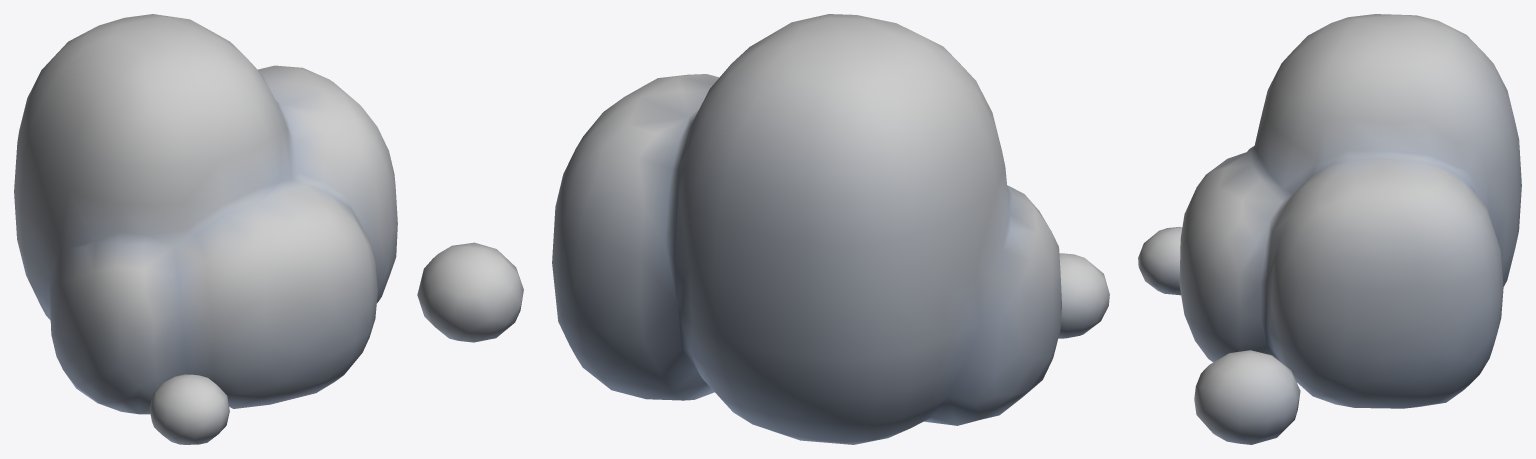
File: Cloudstone_Vein.glb
3 renders of one model, left to right at view 1: azimuth 30°, elevation 25°; view 2: azimuth 150°, elevation 25°; view 3: azimuth 270°, elevation 25°, orthographic. The views are drawn at different scales.
Parts seen in each view (by area): view 1: Cloudstone_Vein; view 2: Cloudstone_Vein; view 3: Cloudstone_Vein.
Part boxes in pixels (<box>): Cloudstone_Vein: <box>14,14,523,444</box>; Cloudstone_Vein: <box>552,14,1109,444</box>; Cloudstone_Vein: <box>1138,14,1521,444</box>.
Size of the model in its own units: 2.75 by 1.98 by 2.3.
